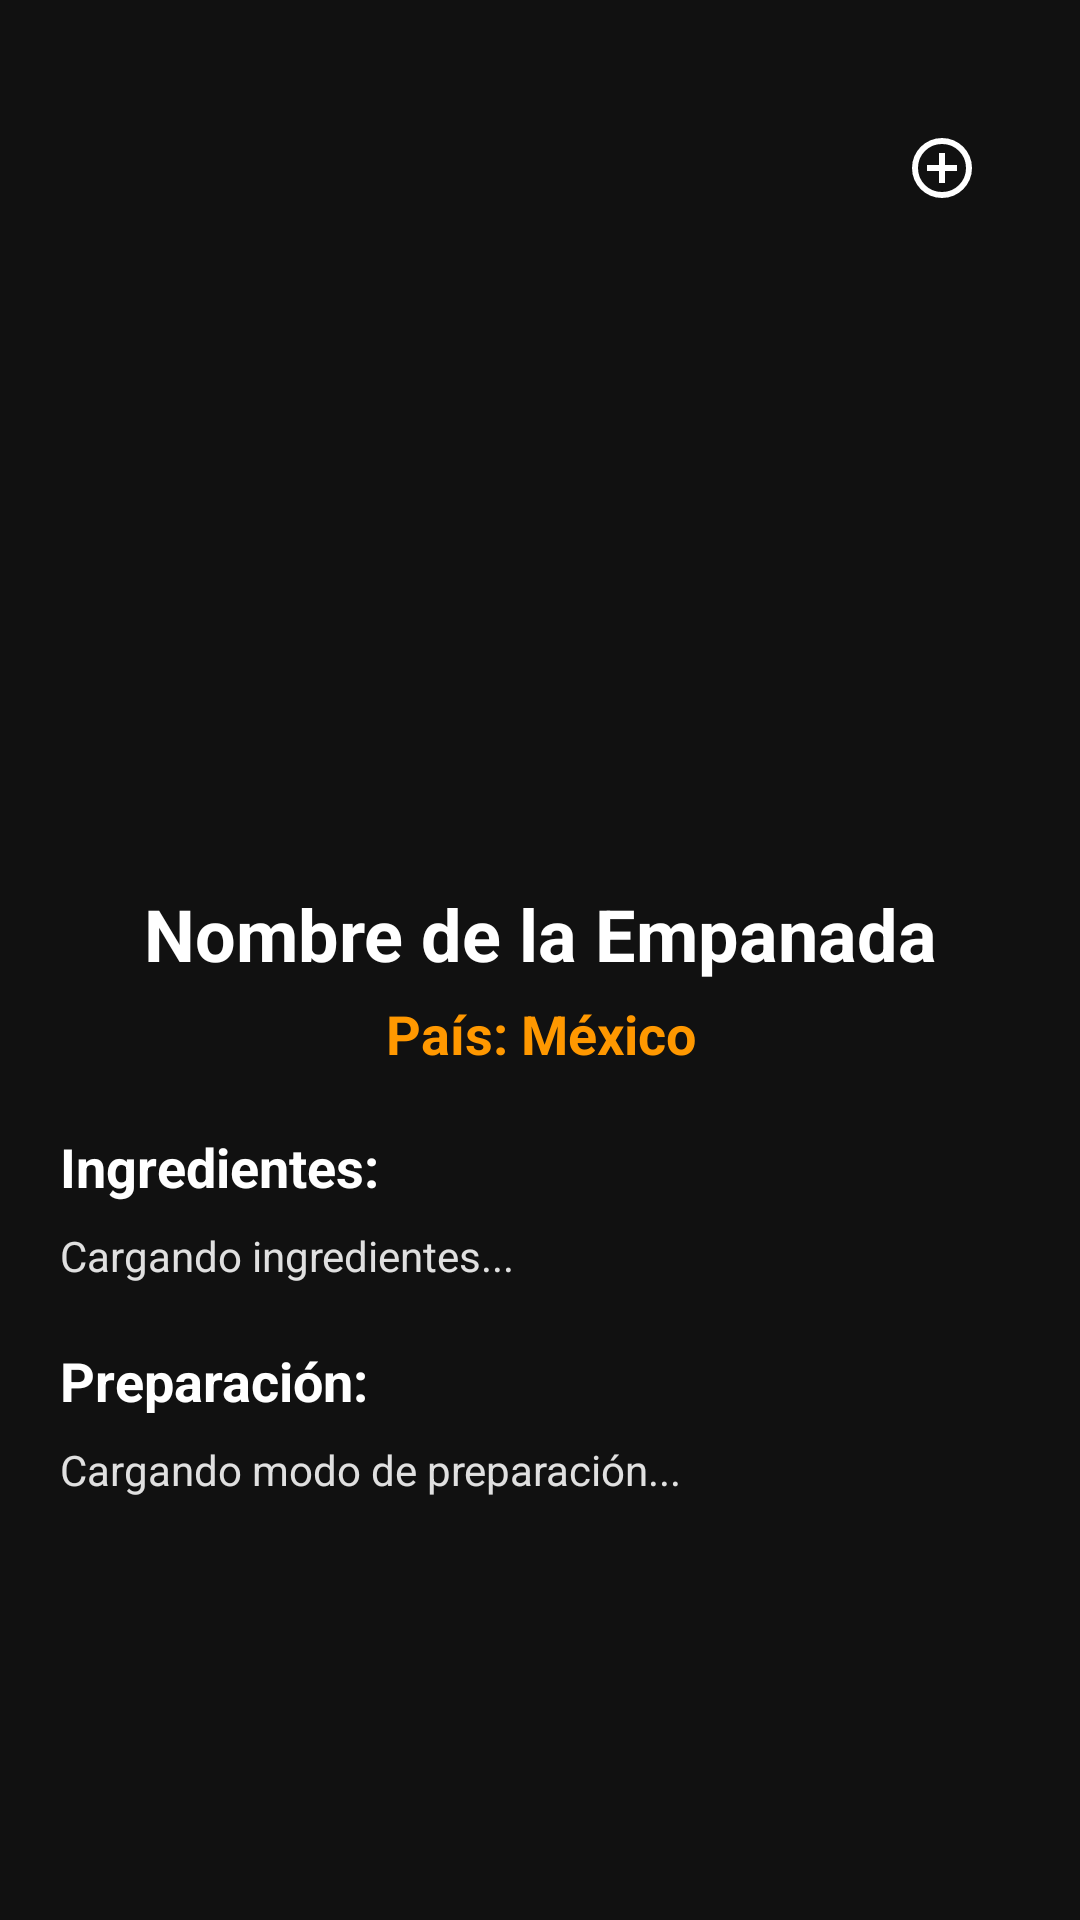

Icons on this 1080 × 1920 Android screen, each with its box as [x1, y1, x2, y2]:
agregarfavorito: [912, 138, 972, 198]
